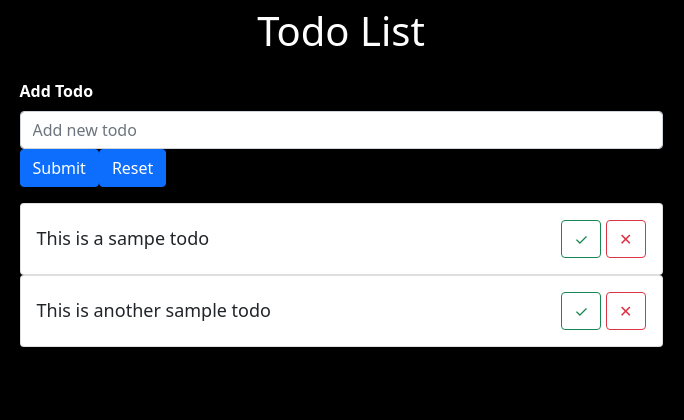
Test: Test todo app › Can add a new todo item to the list
Type "This is also another sample todo" into the field with placeholder "Add new todo" at (342, 130), box [20,111,663,149]
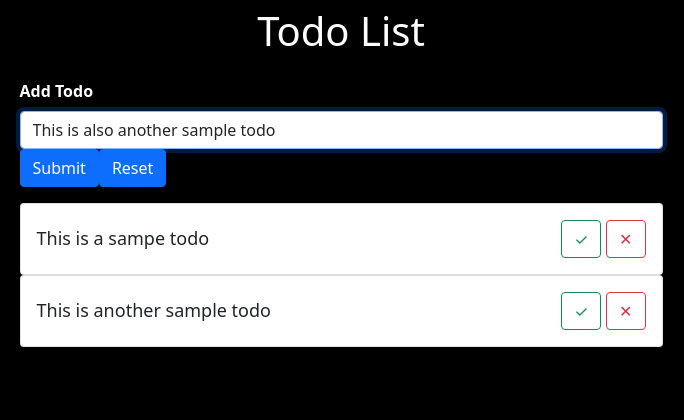
Click the submit button at (60, 168), box [20,149,99,187]
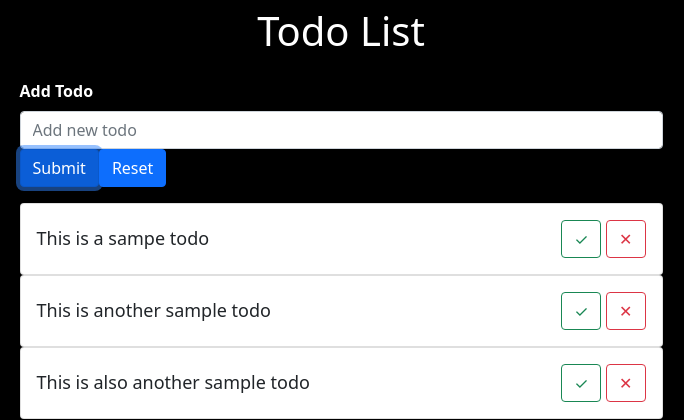
Now the number of elements with class "todo" is 3, box [36,220,646,258]; [36,292,646,330]; [36,364,646,402]
